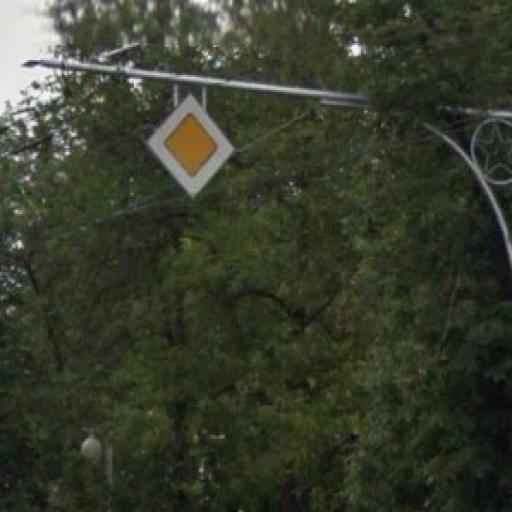traffic_sign: (145, 91, 238, 204)
